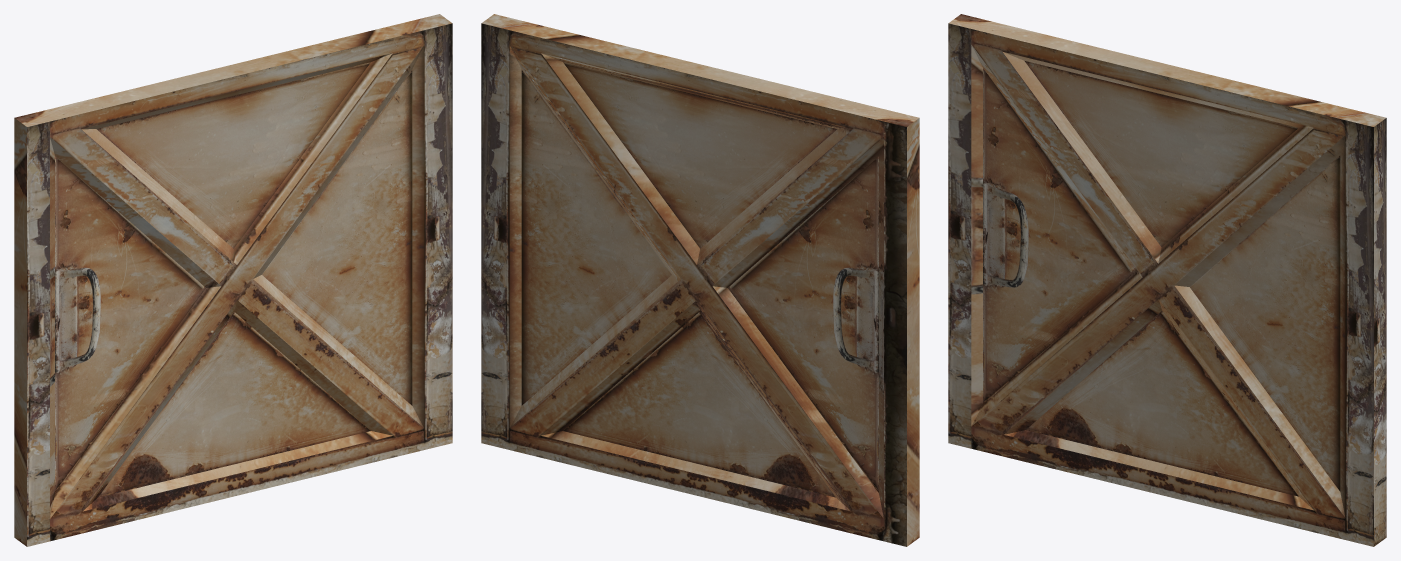
Rendered from SM_NeoLD_05_TrapDoor_00.fbx.
3 renders of one model, left to right at view 1: azimuth 30°, elevation 25°; view 2: azimuth 150°, elevation 25°; view 3: azimuth 330°, elevation 25°, orthographic.
Visible parts, largest first — view 1: SM_NeoLD_05_TrapDoor_00; view 2: SM_NeoLD_05_TrapDoor_00; view 3: SM_NeoLD_05_TrapDoor_00.
Boxes of the visible parts, <box> form: SM_NeoLD_05_TrapDoor_00: <box>14,14,452,546</box>; SM_NeoLD_05_TrapDoor_00: <box>481,14,919,546</box>; SM_NeoLD_05_TrapDoor_00: <box>948,14,1386,546</box>.
Size of the model in its own units: 318 by 300 by 16.55.
